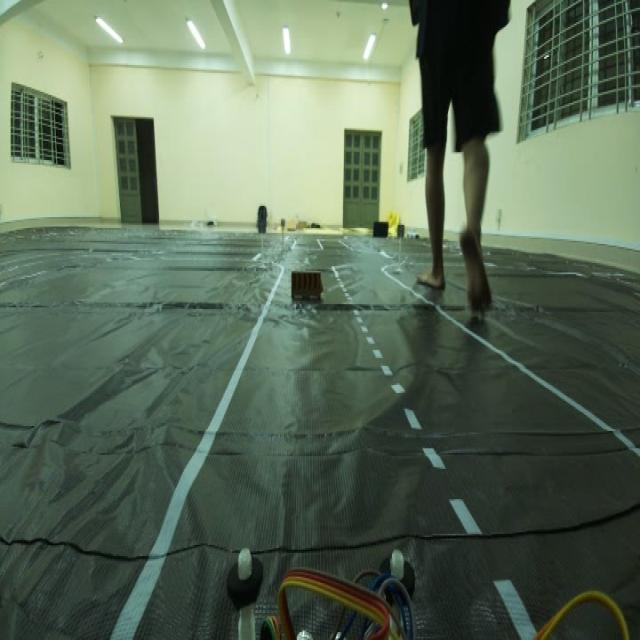roadblock: (290, 264, 325, 306)
